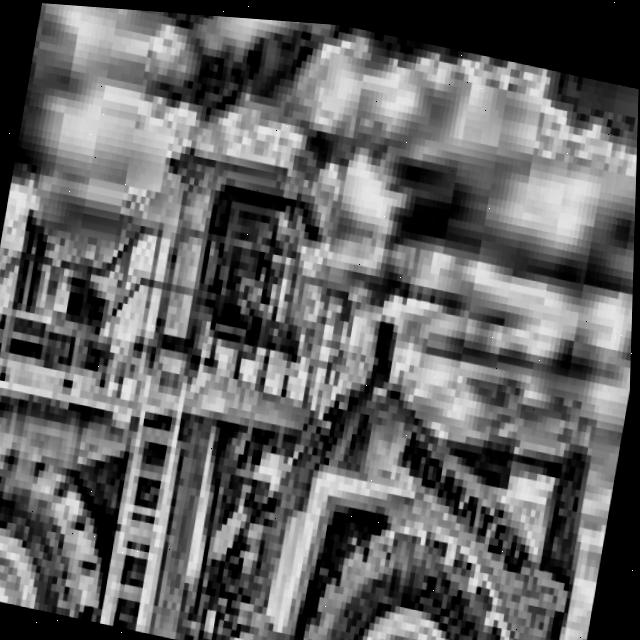buldozerpayloadergrader: (0, 88, 638, 640)
